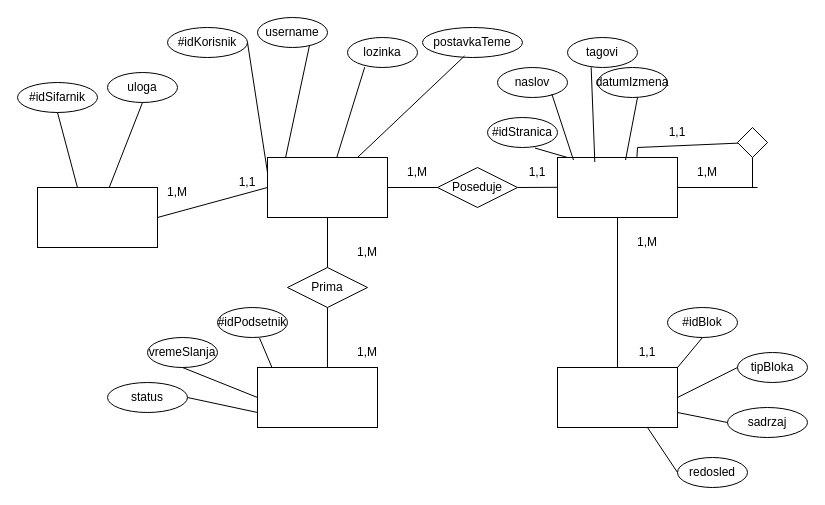
The diagram is 825 pixels wide and 505 high, and some of its shapes have lost their labels. The shapes that lost their labels are listed below. From the top down, each one's centre as x and y in pixels, then its label:
At (x=327, y=187): "Korisnik".
At (x=617, y=187): "Stranica".
At (x=97, y=217): "Korisnicka uloga".
At (x=317, y=397): "Podsetnik".
At (x=617, y=397): "Blok".
